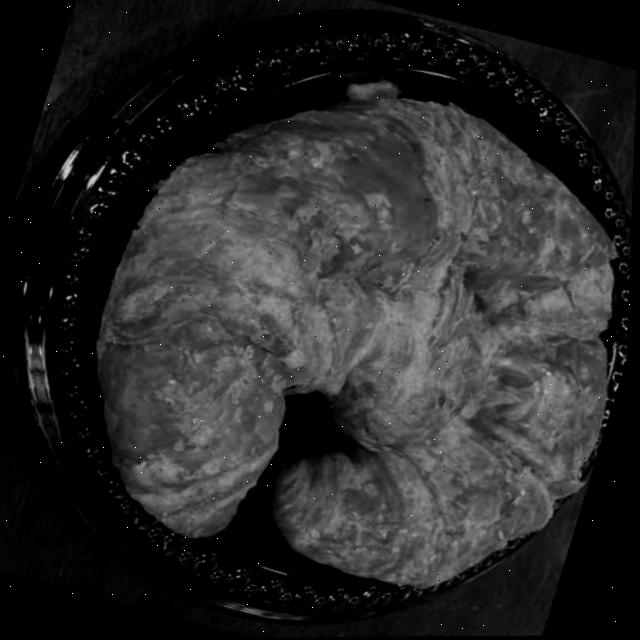面包点心: (34, 22, 639, 640)
